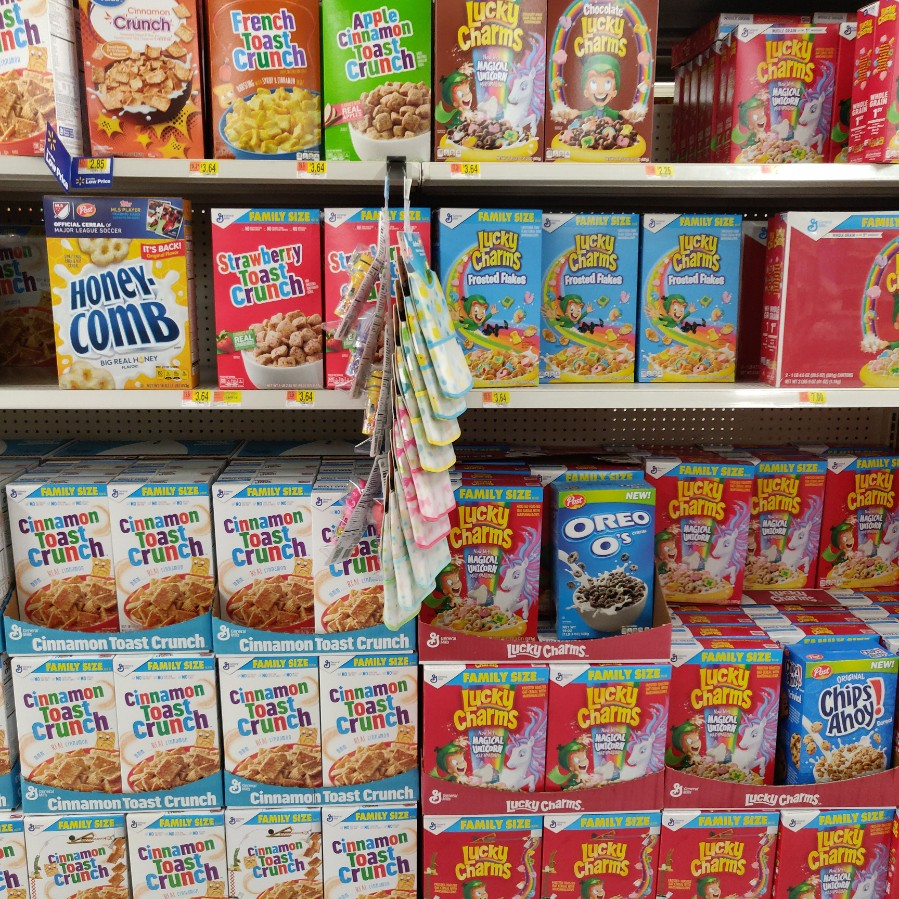Chips Ahoys-565717529: (787, 645, 895, 787)
Honey Comb- 009288857: (41, 195, 192, 385)
Oreo-563424384: (547, 485, 659, 638)
